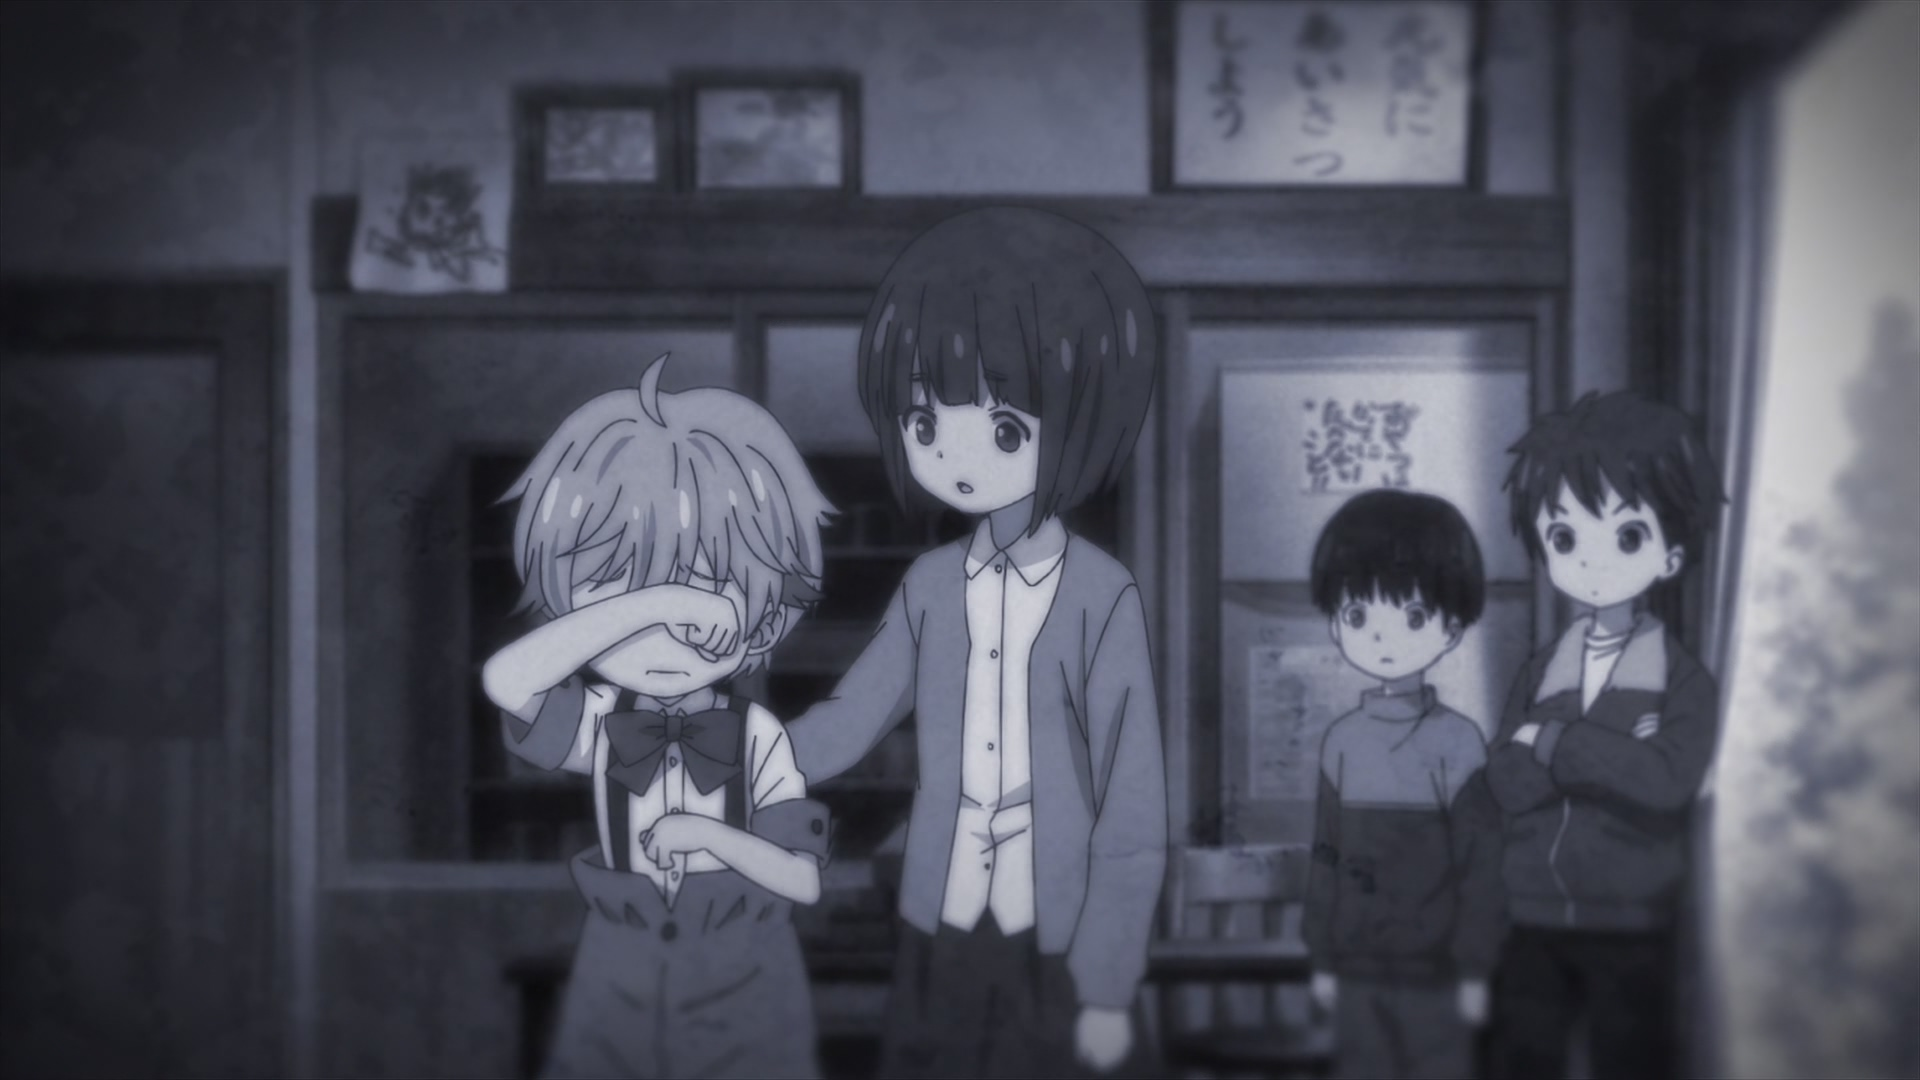其他: (786, 204, 1168, 1080), (479, 353, 845, 1080), (1485, 392, 1731, 1080), (1302, 491, 1513, 1080)
